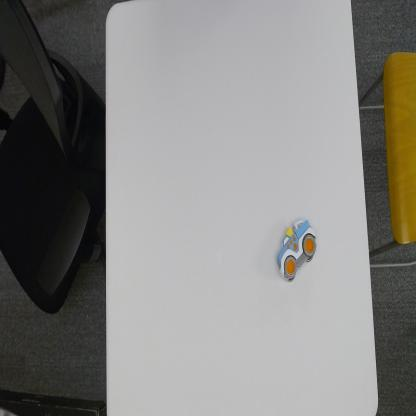Car: (275, 216, 319, 284)
